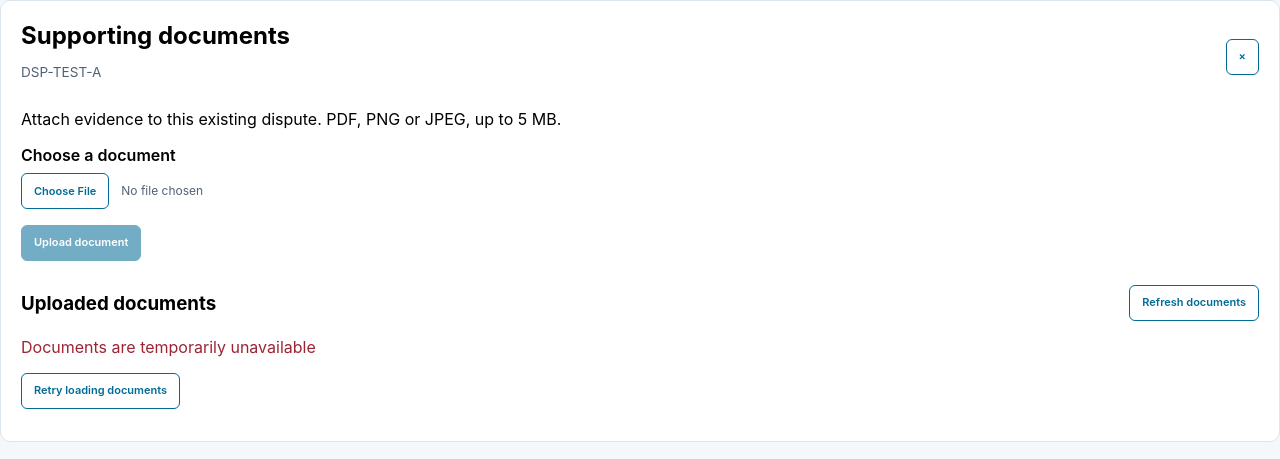
Test: Supporting document interactions › displays a failed load and recovers using the visible retry button
Click the button "Retry loading documents". click: click(100, 391)
box: [21,373,180,409]
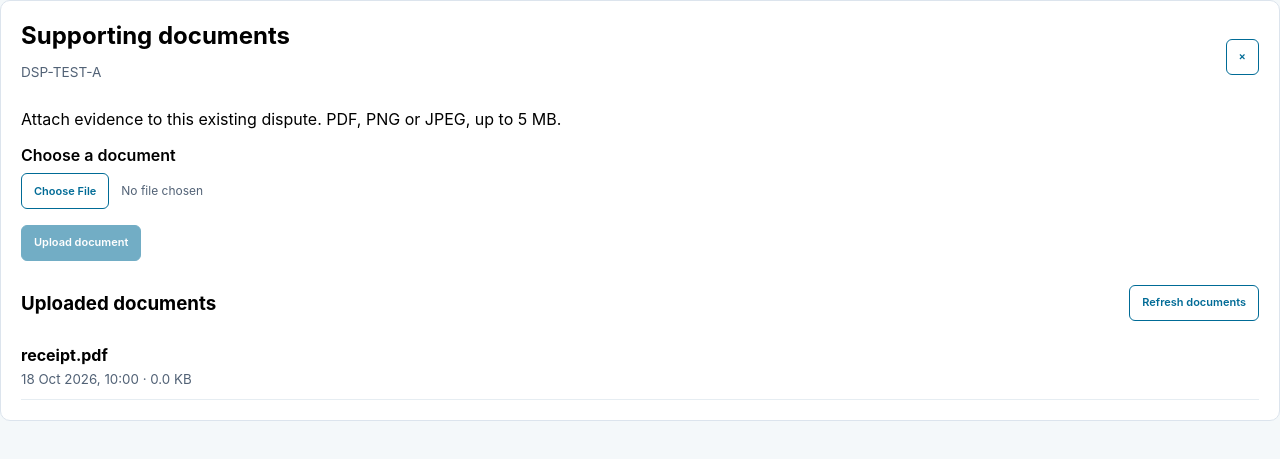
Expected: the message "Documents are temporarily unavailable" is gone
